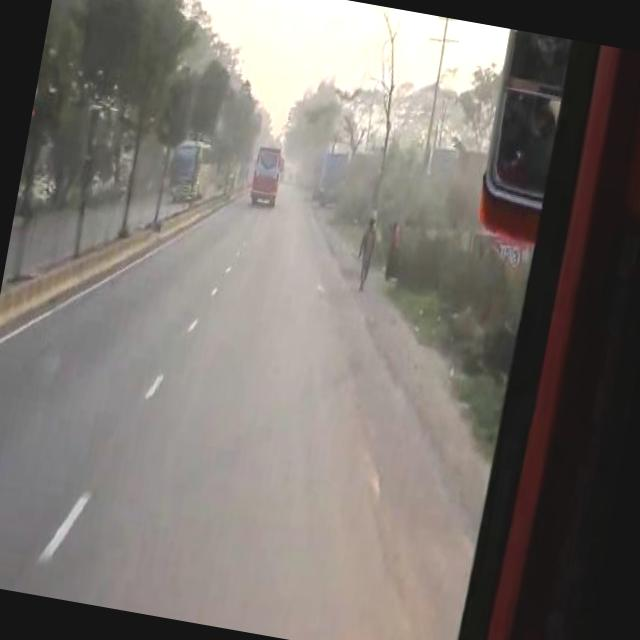bus: (170, 131, 215, 199), (250, 141, 287, 203)
truck: (317, 146, 351, 207)
